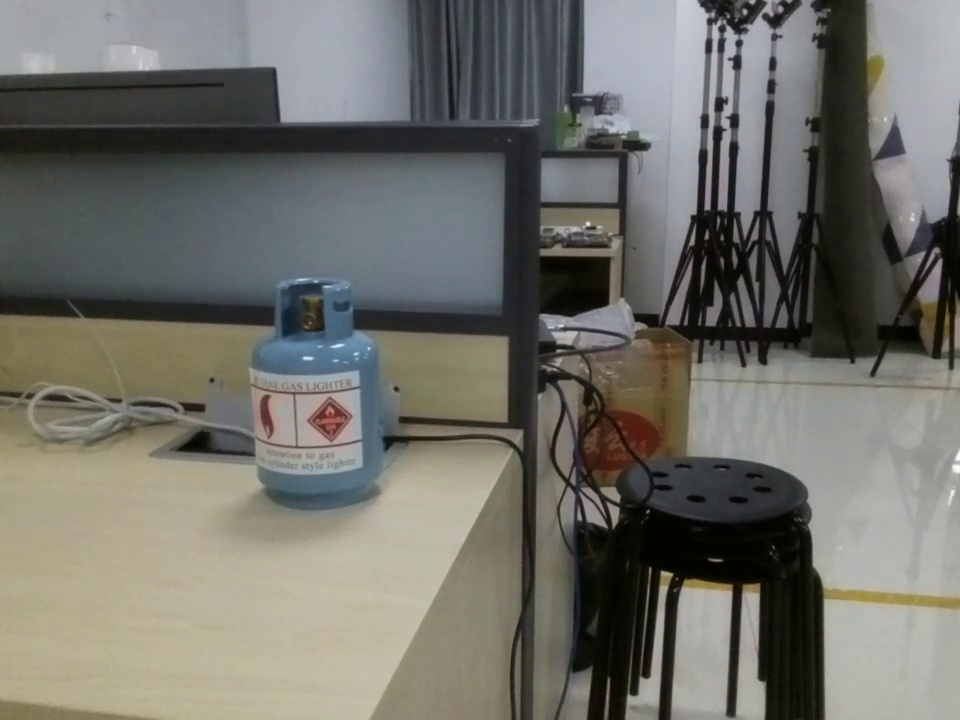gas tank: (241, 274, 400, 509)
